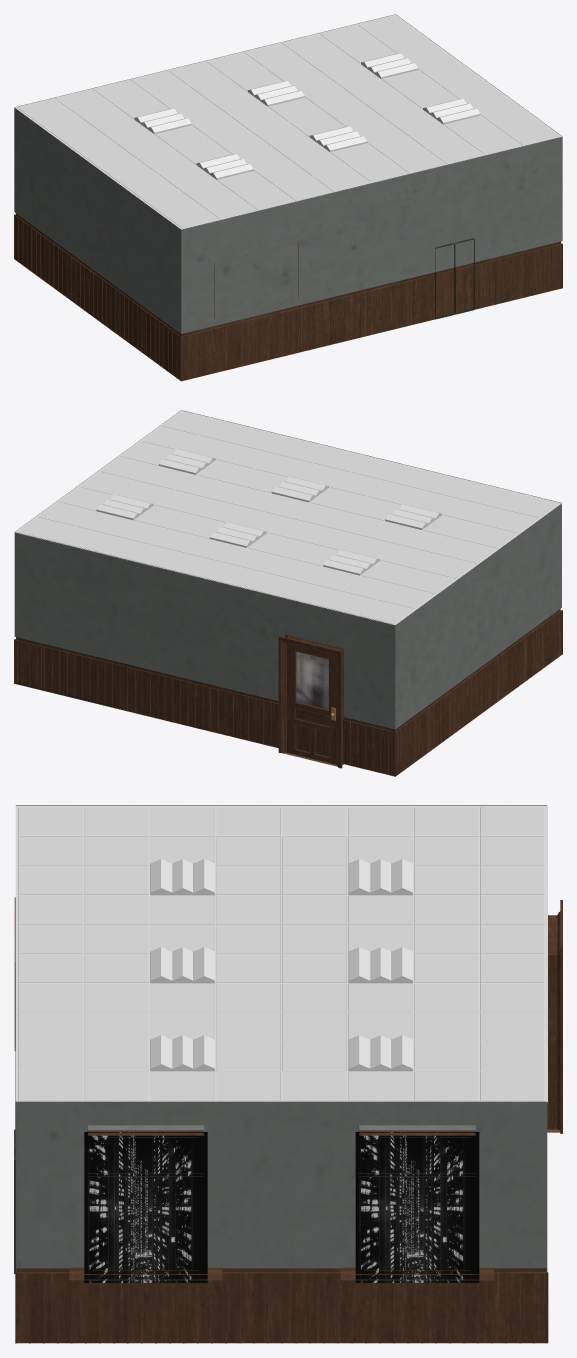
File: private_detective.fbx
3 renders of one model, top to bottom at view 1: azimuth 30°, elevation 25°; view 2: azimuth 150°, elevation 25°; view 3: azimuth 270°, elevation 25°, orthographic. The views are drawn at different scales.
Visible parts, largest first — view 1: walls, ceiling, walls.005, lights; view 2: ceiling, walls, walls.005, door, lights, door.002; view 3: ceiling, walls, walls.005, Cube.004, Cube.015, lights, door.002.
Boxes of the visible parts, x1,y1,x2,y2 form: walls: (14,14,562,380); ceiling: (14,14,562,229); walls.005: (14,214,562,381); lights: (134,53,480,179); ceiling: (14,410,561,624); walls: (14,410,561,776); walls.005: (14,610,562,776); door: (286,643,336,764); lights: (96,449,442,575); door.002: (278,634,344,768); ceiling: (15,806,547,1102); walls: (15,805,560,1343); walls.005: (15,1051,548,1343); Cube.004: (340,1130,494,1282); Cube.015: (69,1130,222,1282); lights: (150,859,412,1071); door.002: (547,900,562,1133).
Size of the model in its own units: 828 by 314 by 627.
